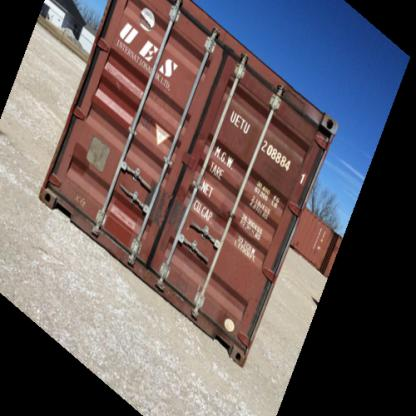Damage: (141, 183, 194, 242), (162, 270, 204, 312), (282, 84, 311, 116), (215, 33, 243, 66), (69, 188, 99, 212), (109, 67, 133, 91)
